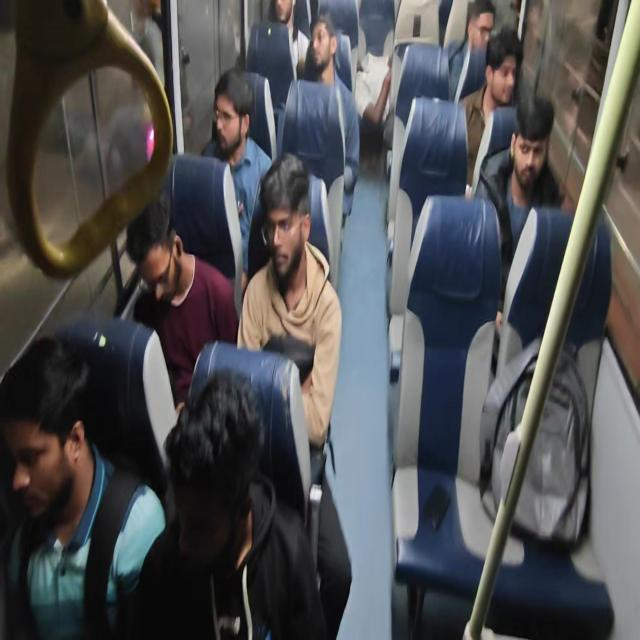person: (133, 367, 326, 639), (2, 334, 167, 638), (237, 152, 342, 452), (125, 194, 238, 416), (473, 90, 568, 316), (281, 12, 360, 218), (200, 68, 273, 280), (458, 26, 523, 195), (448, 0, 496, 101), (268, 0, 310, 81), (128, 0, 164, 92)
